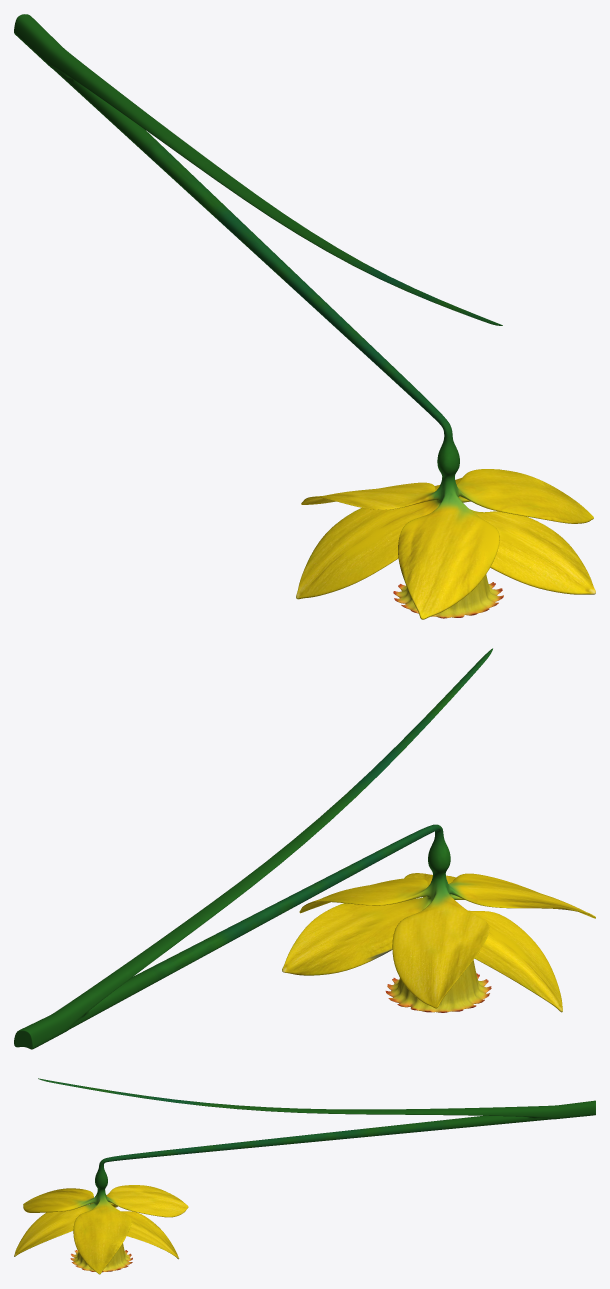
File: Daffodil.glb
3 views of the same model, one above another, from view 1: azimuth 30°, elevation 25°; view 2: azimuth 150°, elevation 25°; view 3: azimuth 270°, elevation 25° (orthographic). The views are drawn at different scales.
Parts seen in each view (by area): view 1: Node1; view 2: Node1; view 3: Node1.
Boxes of the visible parts, x1,y1,x2,y2 form: Node1: (14,14,595,619); Node1: (14,648,595,1049); Node1: (14,1078,595,1274).
Size of the model in its own units: 2.88 by 3.03 by 8.82.
1 material, 1 textured.
